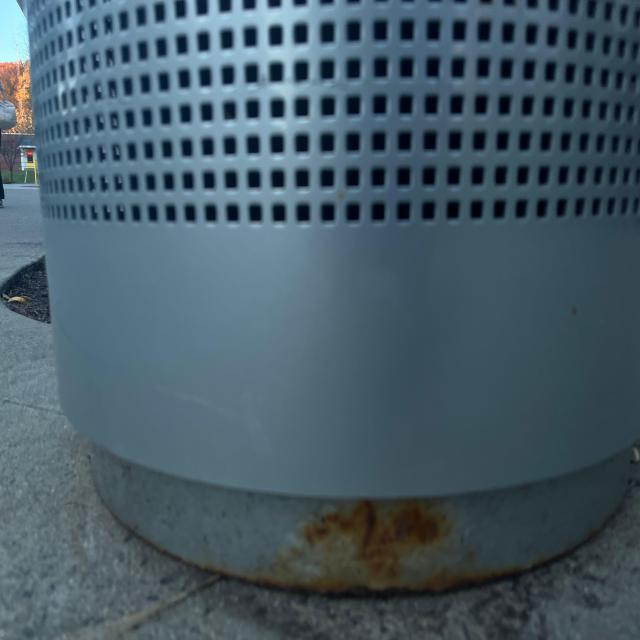Crevice Corrosion: (250, 499, 529, 599)
